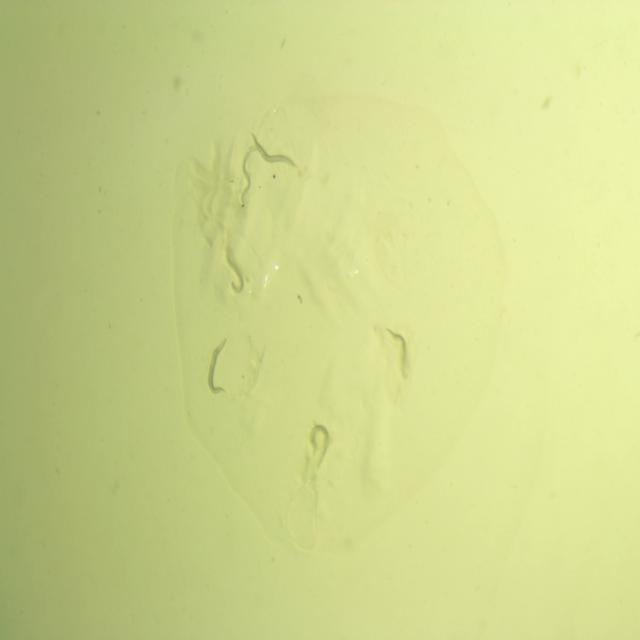worm: (250, 129, 304, 174), (382, 323, 416, 386), (204, 334, 232, 401), (238, 141, 264, 210), (220, 243, 248, 301), (305, 423, 336, 470)
